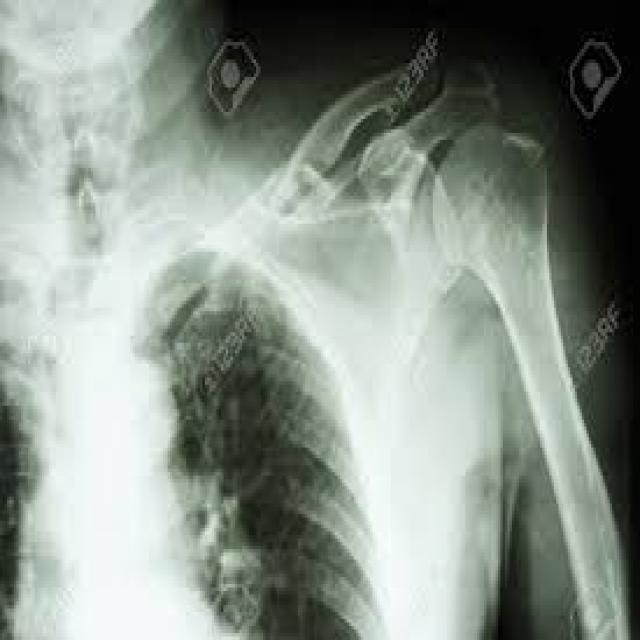comminuted: (307, 38, 592, 338)
